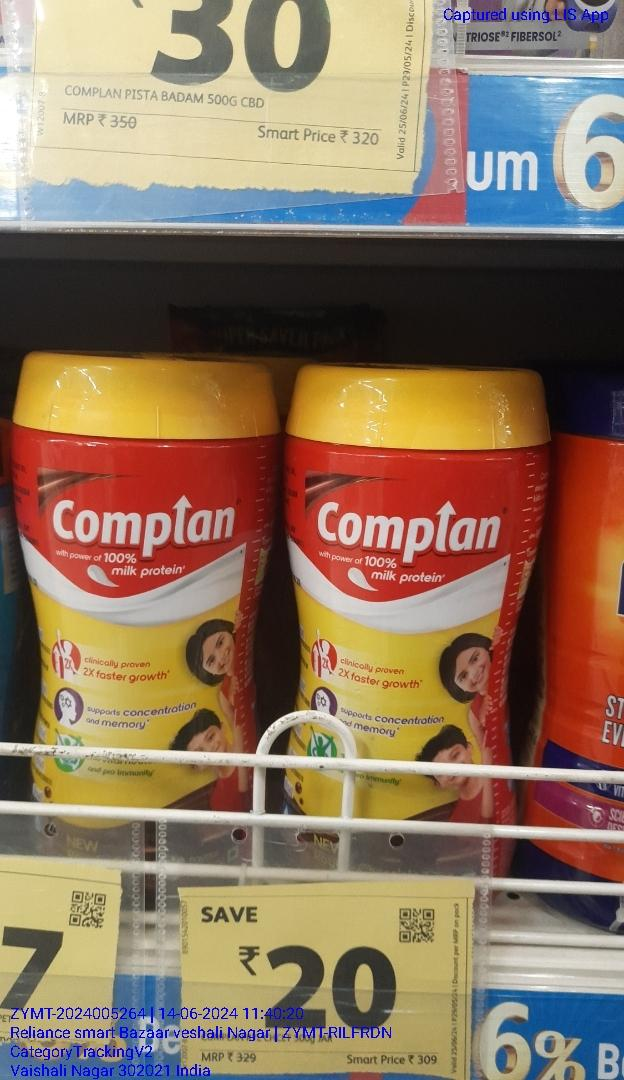COMPLAN_CHOCOLATE_500_GMS_JAR: (281, 351, 532, 859), (21, 346, 262, 861)
